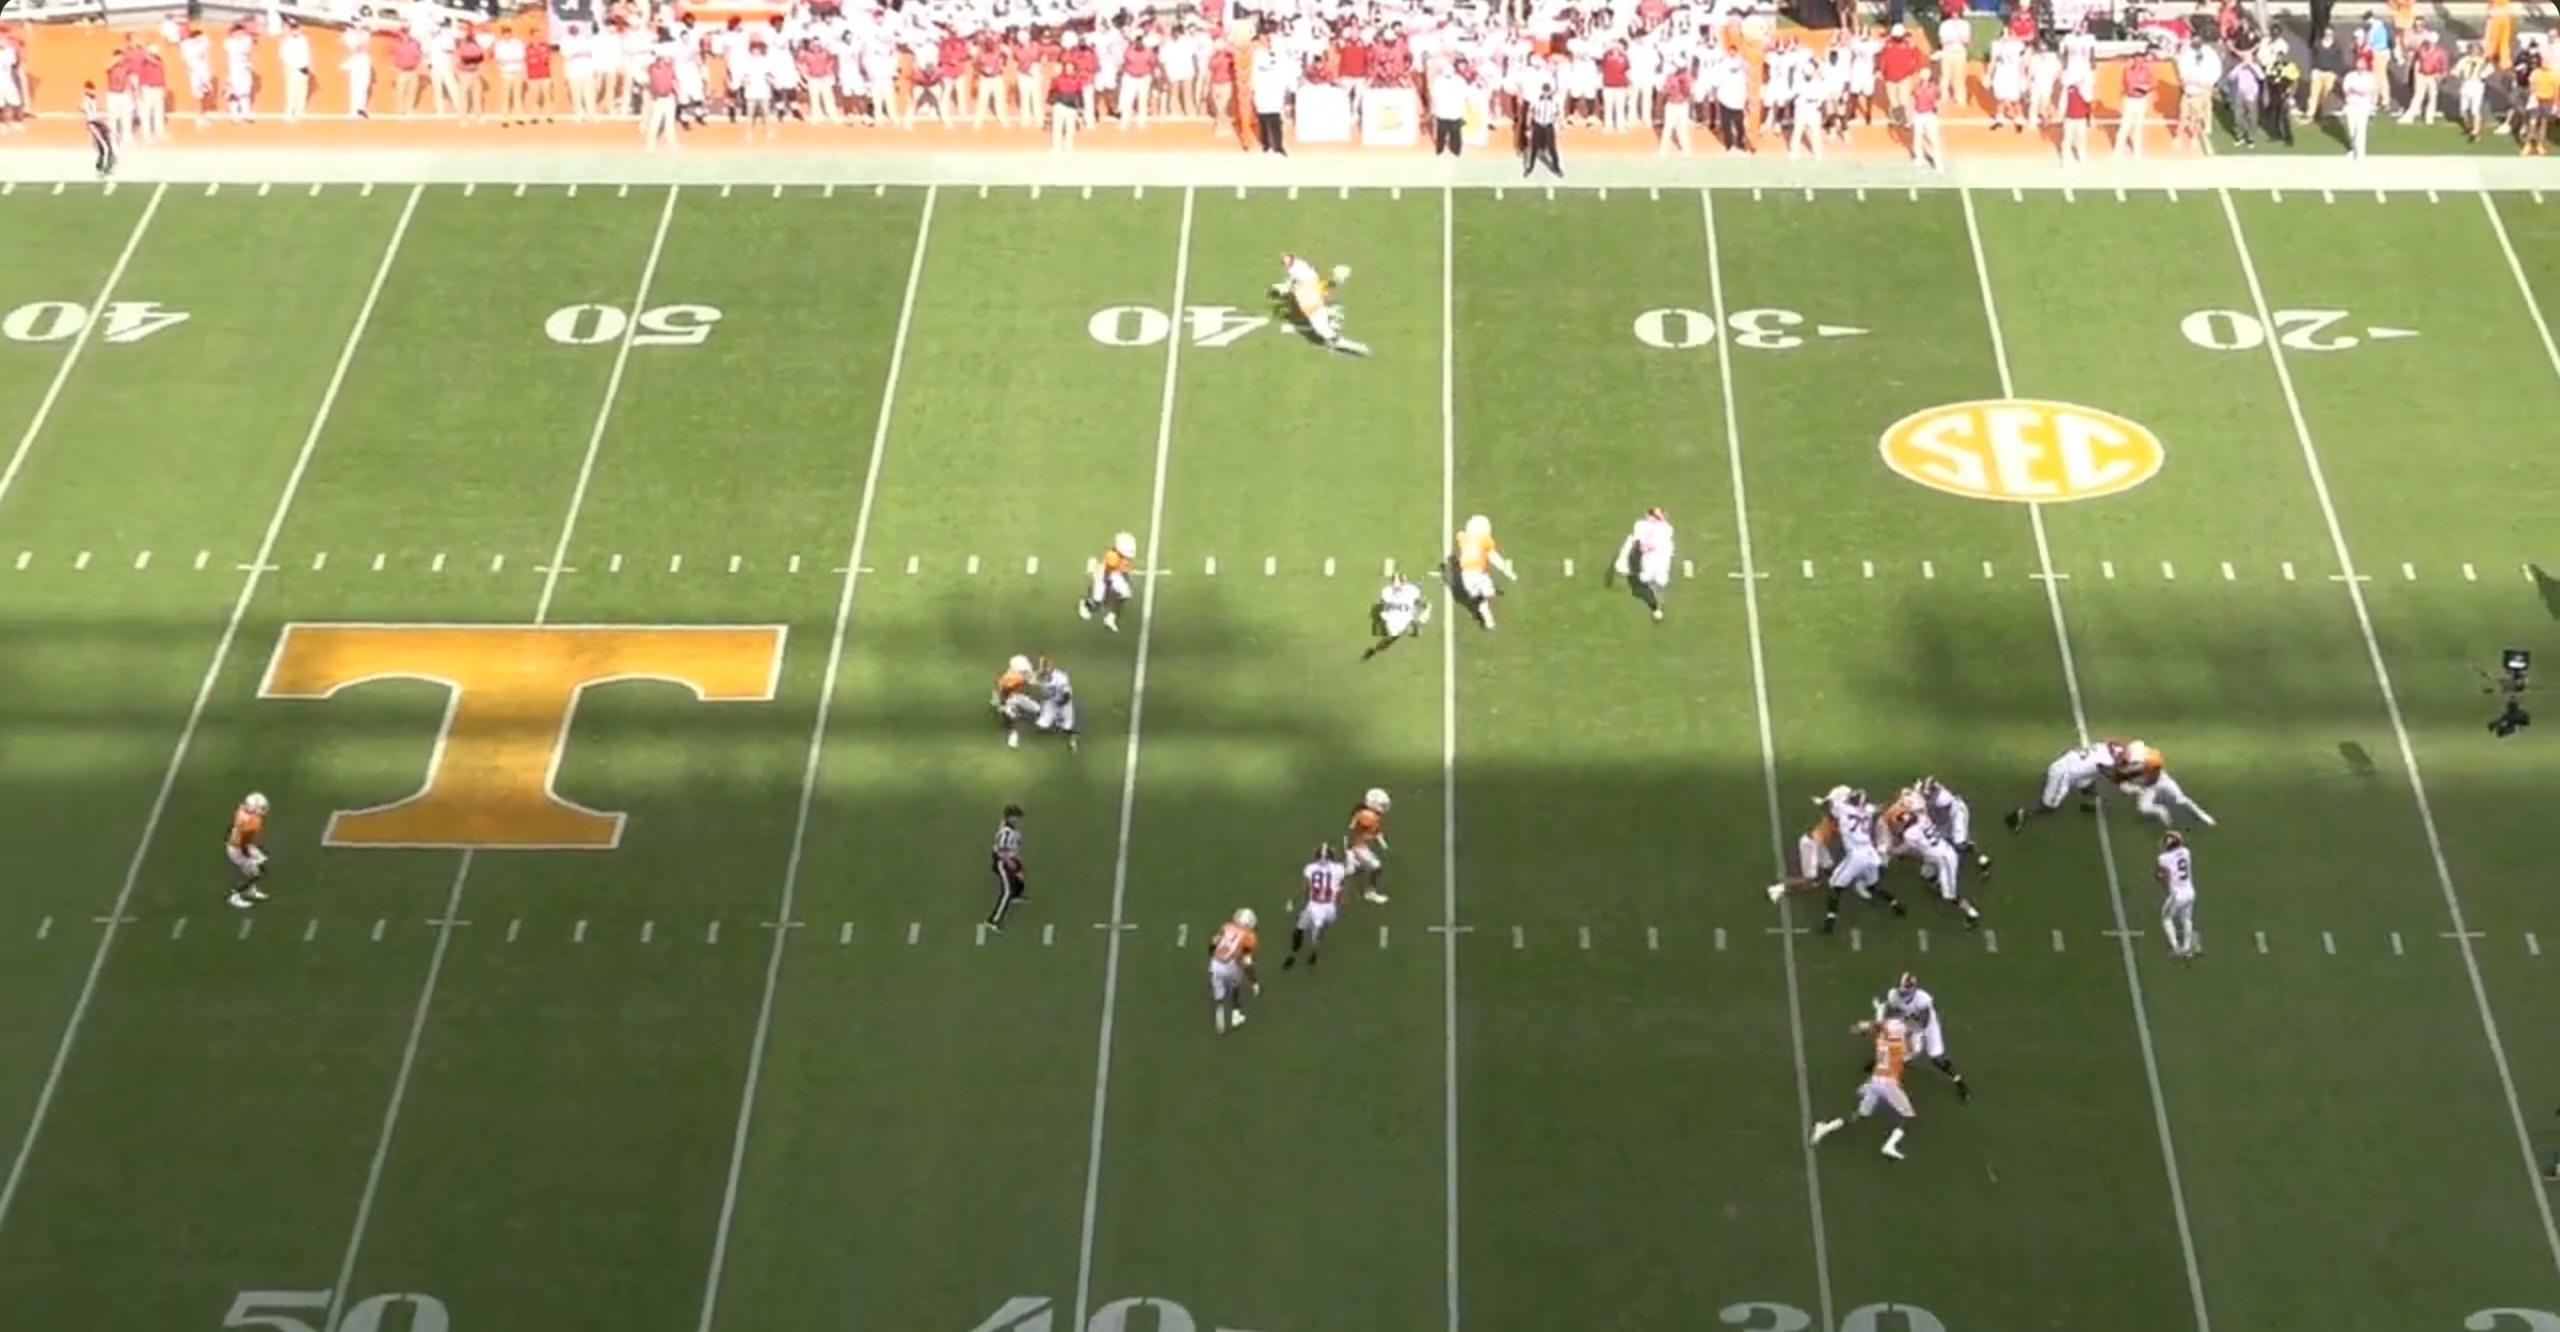player: (1809, 999, 1932, 1163), (1822, 786, 1904, 929), (2005, 730, 2119, 829), (1901, 807, 1984, 934), (2115, 736, 2222, 834), (1893, 974, 1972, 1104), (1766, 784, 1853, 902), (1275, 837, 1345, 975), (1201, 903, 1268, 1040), (1908, 773, 1991, 879), (1617, 501, 1685, 627), (1084, 532, 1157, 641), (1442, 509, 1508, 629), (1327, 785, 1389, 910), (2146, 829, 2203, 962), (1288, 272, 1374, 358), (227, 793, 283, 925), (1272, 250, 1356, 333), (1358, 571, 1429, 669), (1014, 656, 1085, 751), (994, 654, 1058, 754), (1866, 788, 1927, 875)
ref: (983, 796, 1041, 934), (1510, 87, 1572, 188), (81, 81, 136, 181)
